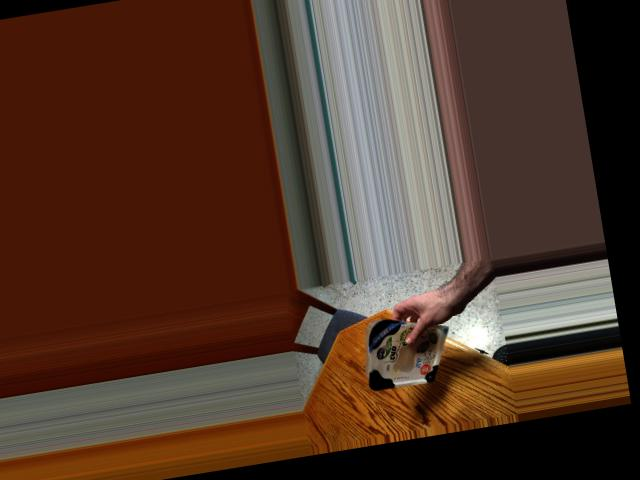cheese: (358, 321, 449, 385)
